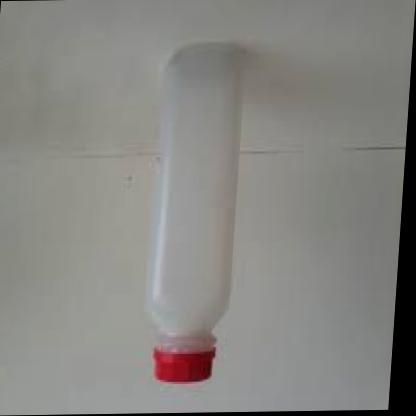trash: (151, 43, 241, 381)
